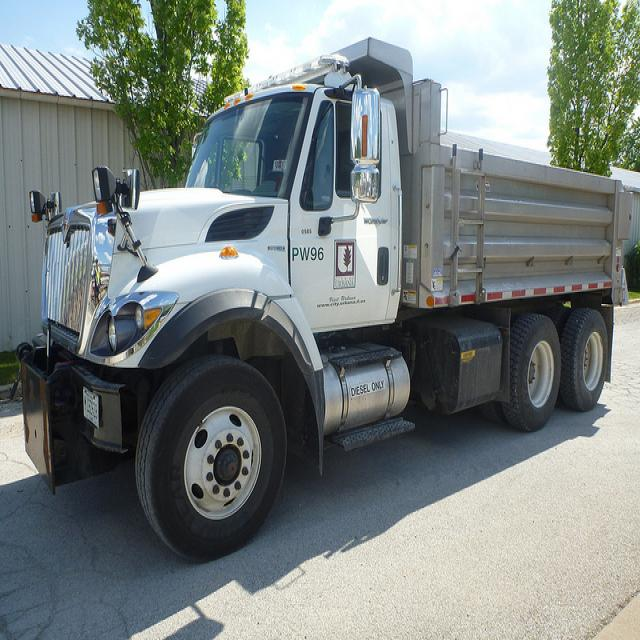Vehicle: (16, 37, 632, 563)
